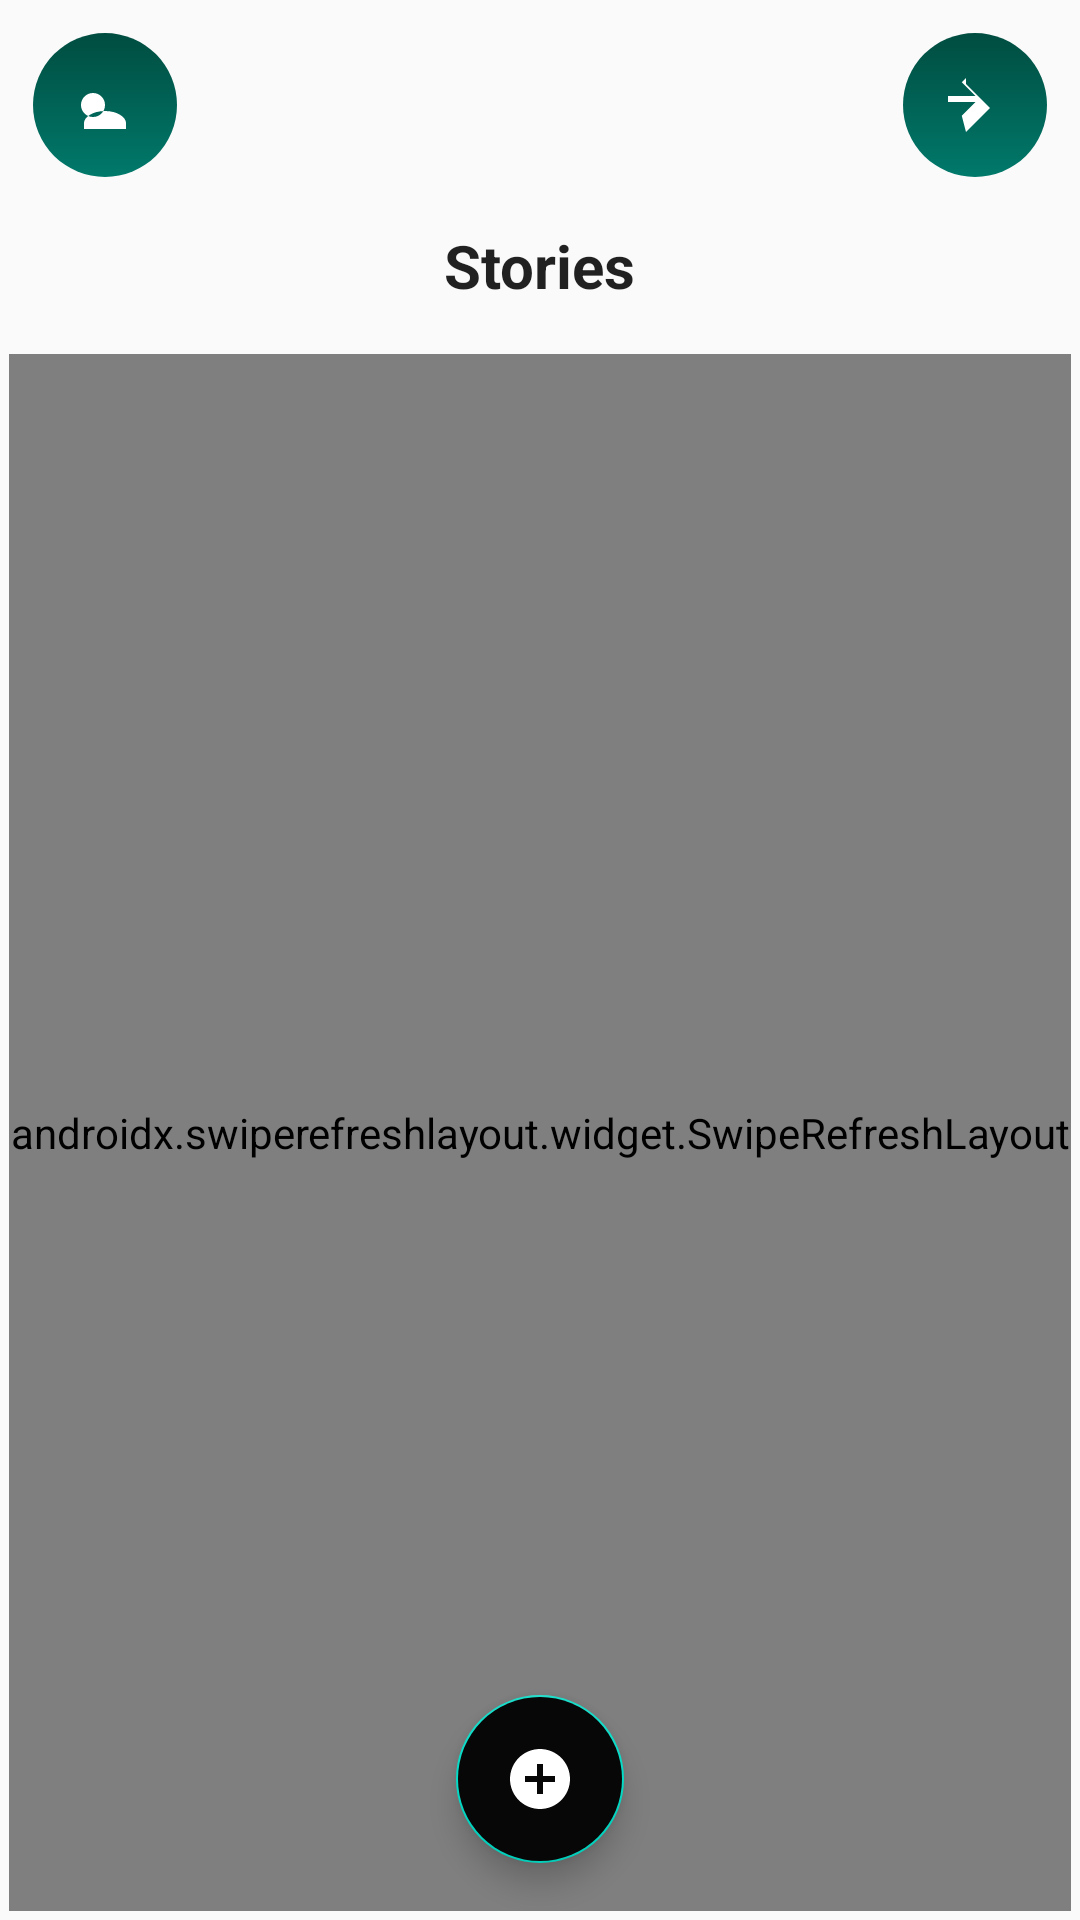

Icon click points for this 1080×1920 phone screenshot, format [x,y]:
Add New Post: [540,1779]
Profile Button: [105,105]
